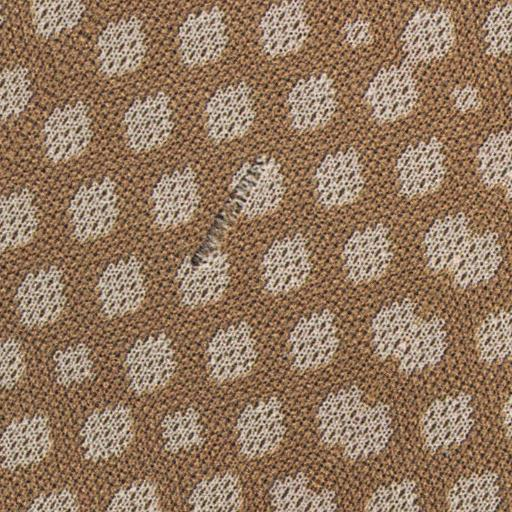slub: (171, 152, 279, 271)
